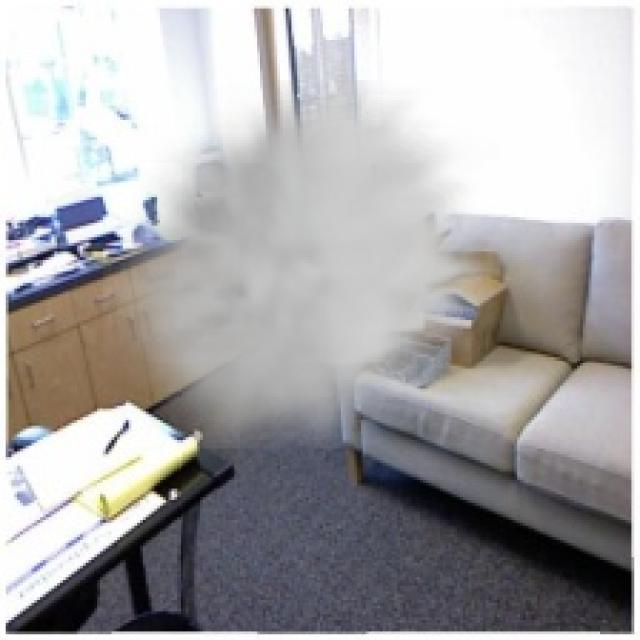Smoke: (103, 80, 500, 449)
